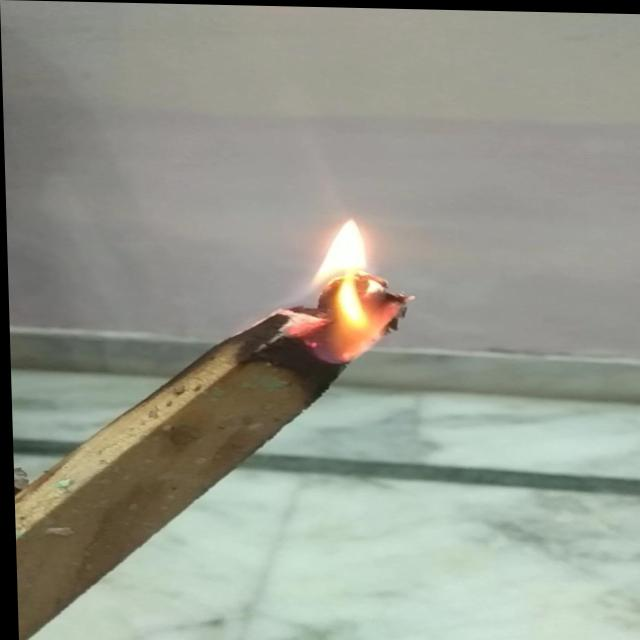fire: (268, 205, 418, 371)
